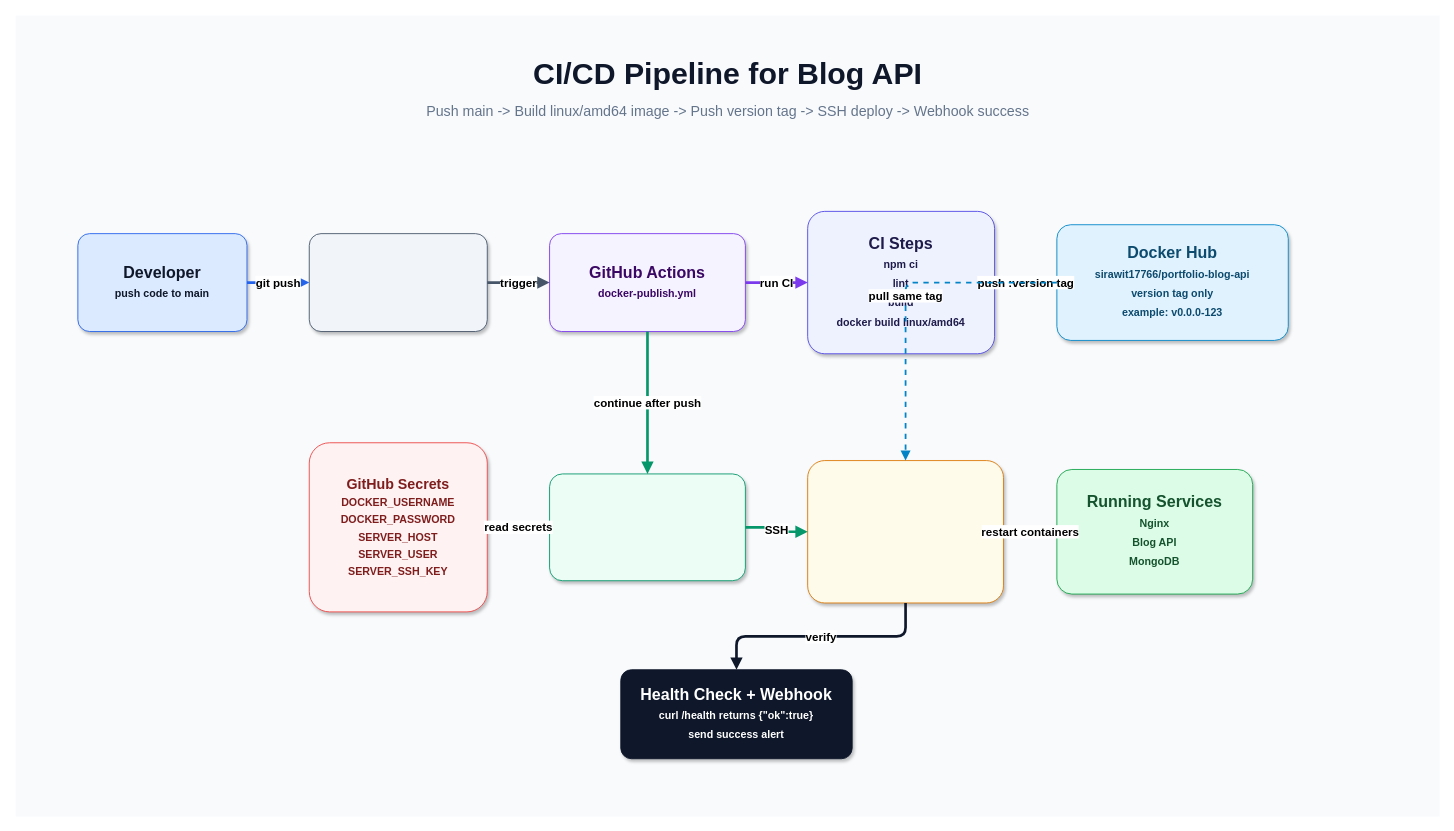
This 1454x831 diagram has some shape labels left out. The shapes that lost their labels are listed below. From the top down, each one's centre as x and y in pixels, then its label:
point (399, 283): GitHub Repository Portfolio-Peem
point (648, 528): Deploy Step same workflow uses GitHub Secrets
point (906, 532): AWS EC2 Server SSH deploy git pull main pull uploaded tag docker-compose up -d
